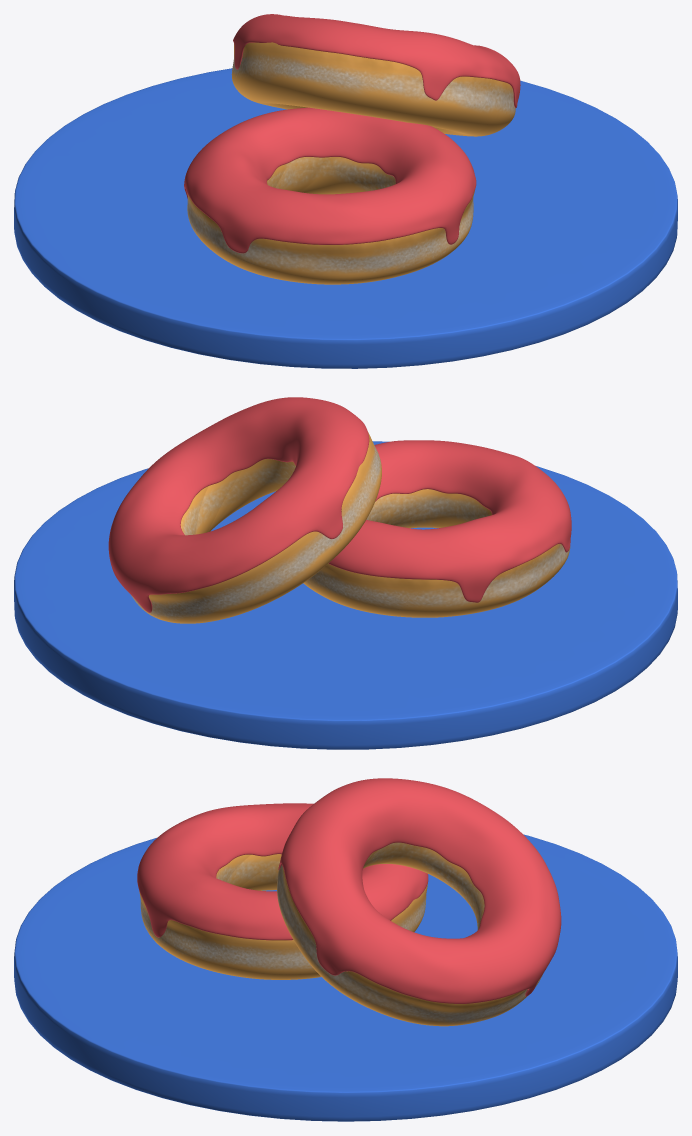
The model's file is Donut-THREE.glb.
3 renders of one model, top to bottom at view 1: azimuth 30°, elevation 25°; view 2: azimuth 150°, elevation 25°; view 3: azimuth 270°, elevation 25°, orthographic.
Visible parts, largest first — view 1: Cylinder, Icing, Donut.001, Donut, Icing.001; view 2: Cylinder, Icing.001, Icing, Donut.001, Donut; view 3: Cylinder, Icing.001, Icing, Donut.001, Donut.
Part boxes in pixels (box(x1,y1,x2,y2)): Cylinder: box(14, 68, 677, 368); Icing: box(184, 107, 476, 253); Donut.001: box(231, 42, 515, 136); Donut: box(187, 157, 474, 284); Icing.001: box(233, 14, 520, 107); Cylinder: box(14, 441, 677, 749); Icing.001: box(108, 397, 369, 612); Icing: box(328, 440, 571, 602); Donut.001: box(131, 432, 381, 623); Donut: box(303, 489, 570, 617); Cylinder: box(14, 834, 677, 1121); Icing.001: box(278, 778, 561, 1003); Icing: box(137, 803, 428, 940); Donut.001: box(277, 842, 542, 1026); Donut: box(139, 854, 427, 979).
Bounding box in the file's own units: 6.2 × 2.03 × 6.2.
Materials: 3 (1 with a texture image).
